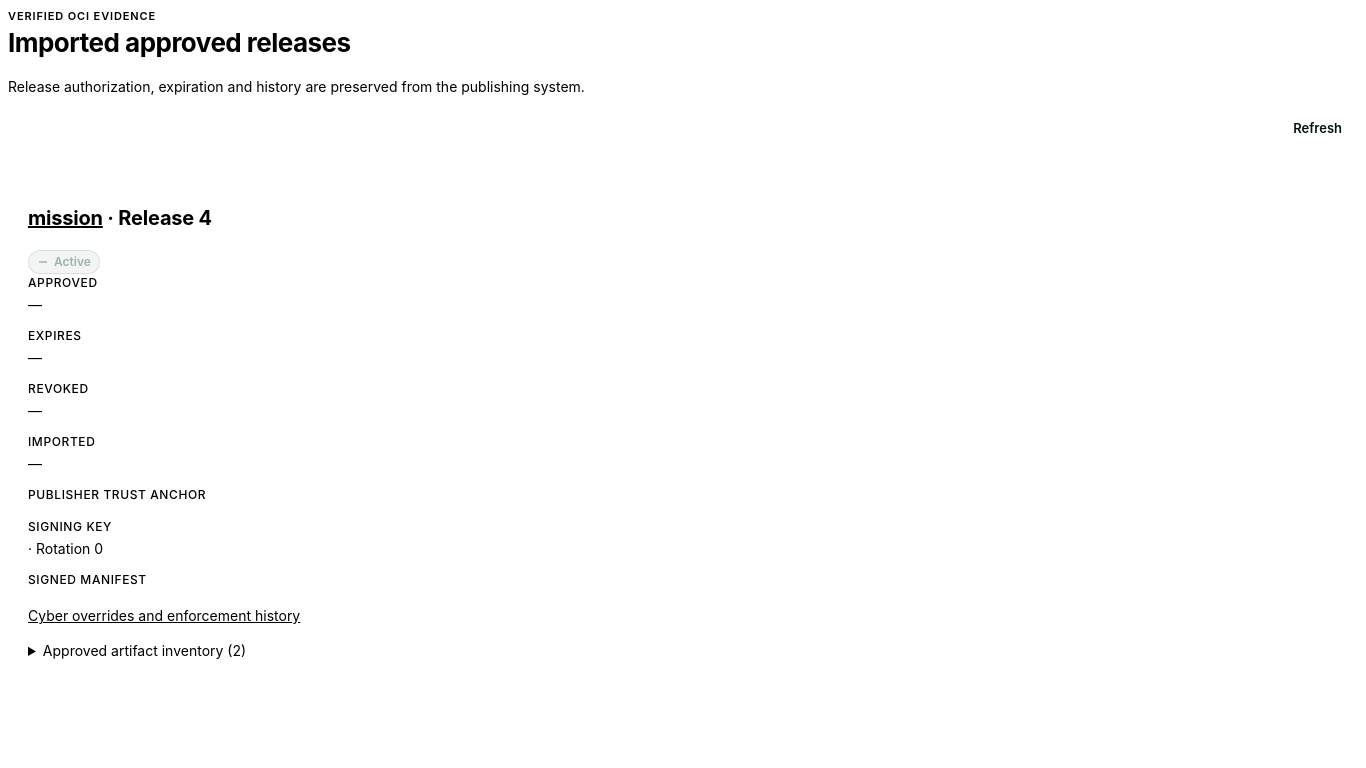
Test: resolves the selected imported release image through its local CATS gateway
What coordinates should you click on to do the following:
click the heading "Approved artifact inventory (2)"
I would click on:
 (144, 651)
Its box is x1=43 y1=642 x2=246 y2=659.
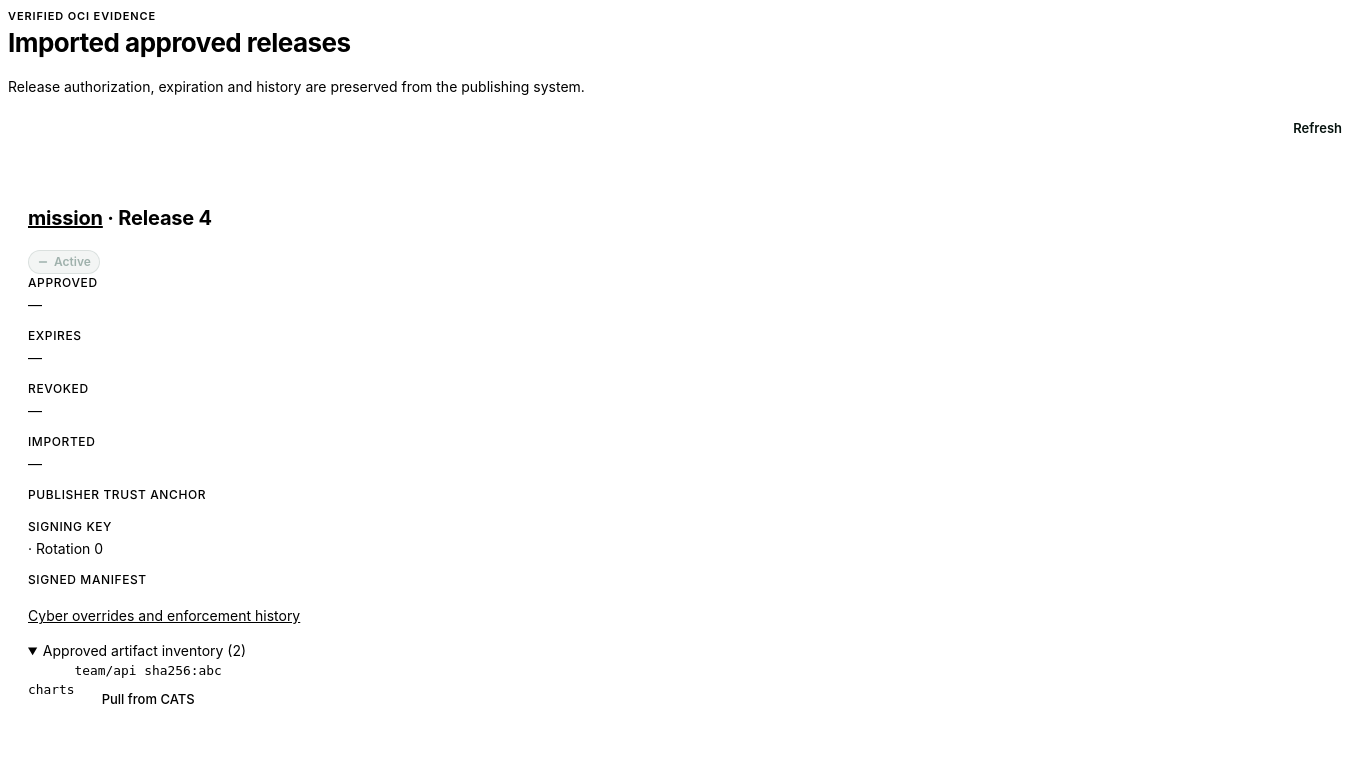
What coordinates should you click on to do the following:
click the button with aria-label "Pull team/api from CATS"
I would click on:
 (148, 700)
Its box is x1=74 y1=682 x2=222 y2=718.
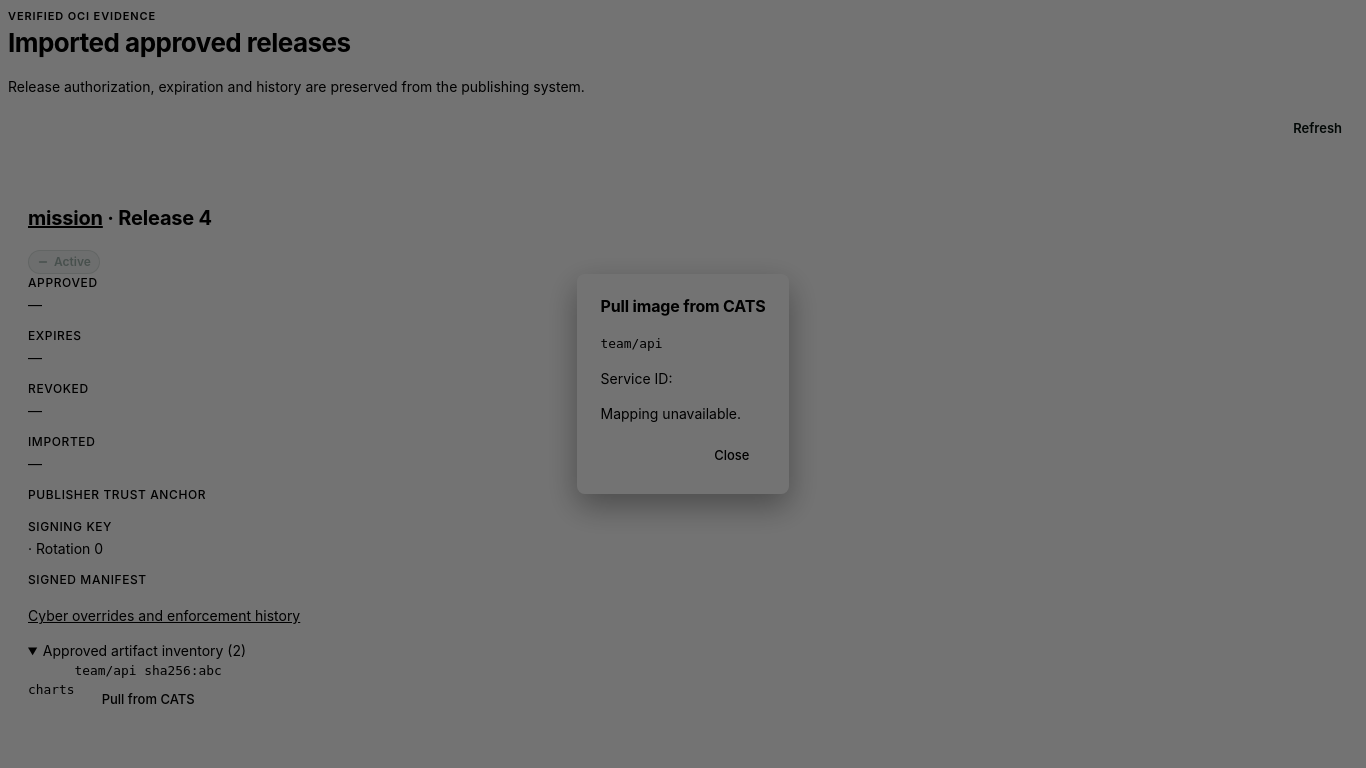
Result: the text "Mapping unavailable." is shown at x1=600 y1=403 x2=765 y2=424
